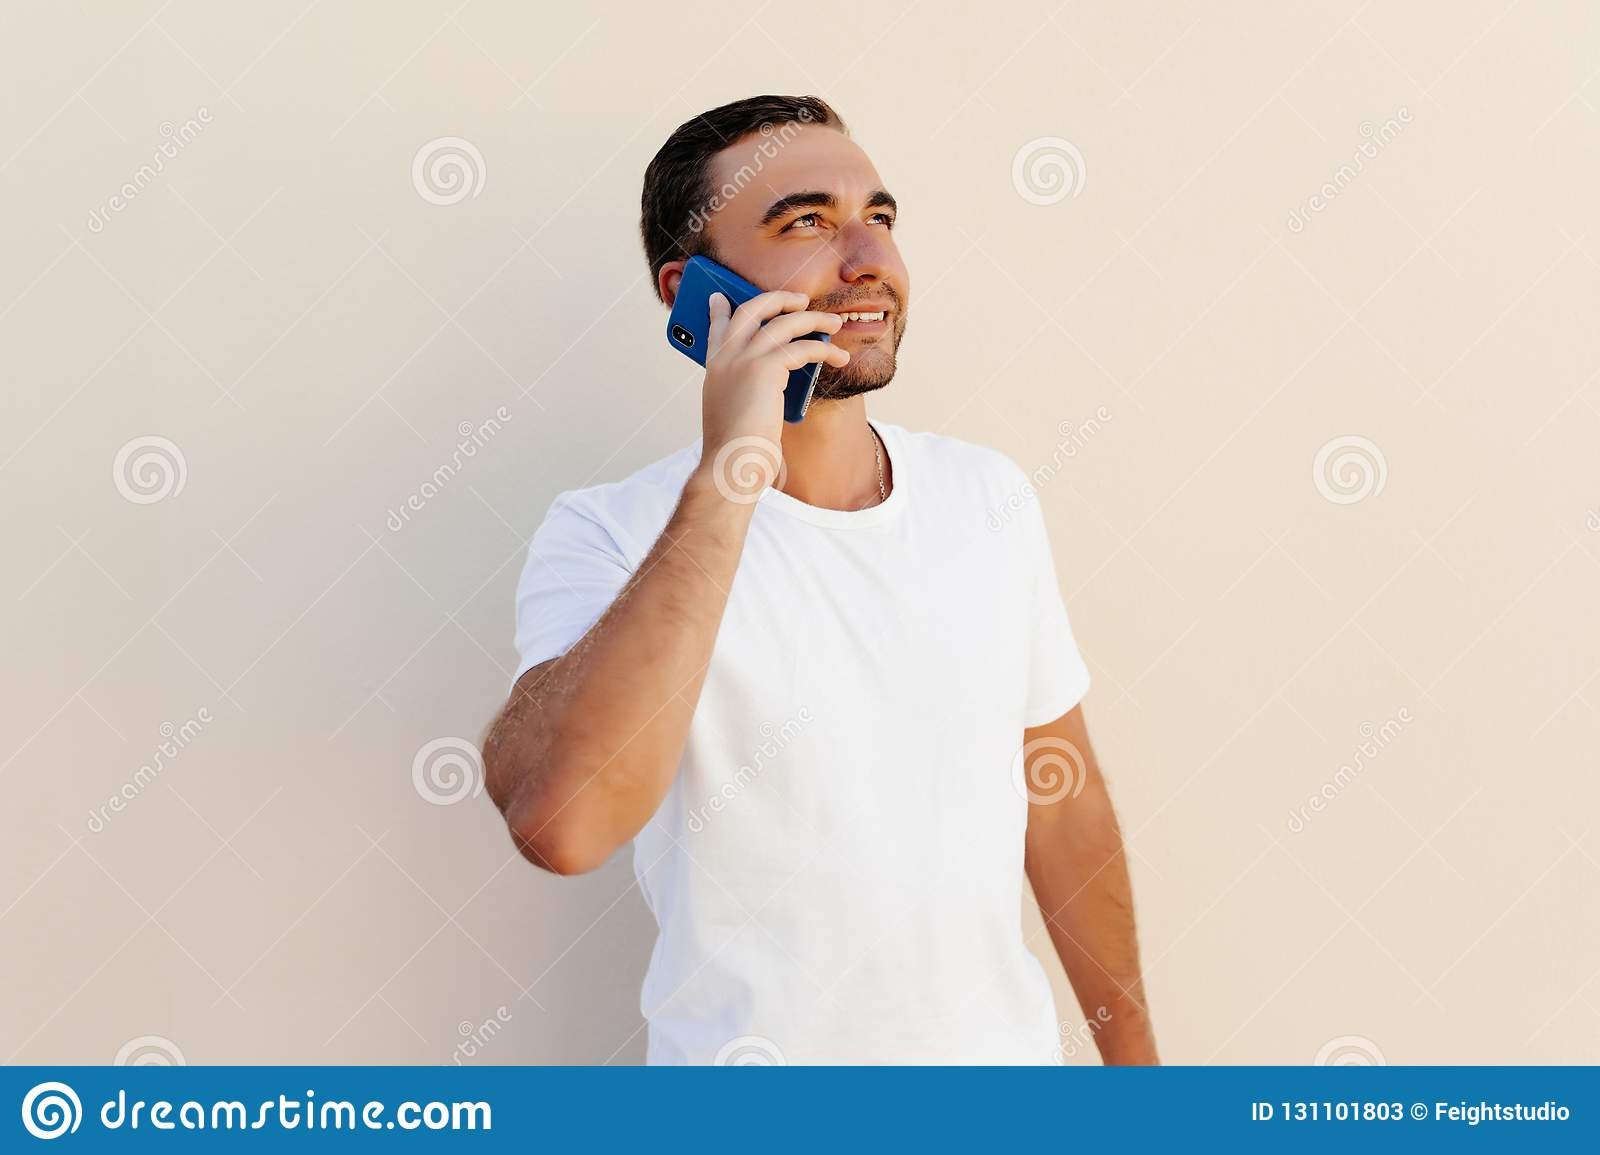phone: (665, 251, 839, 433)
talk: (658, 178, 911, 498)
